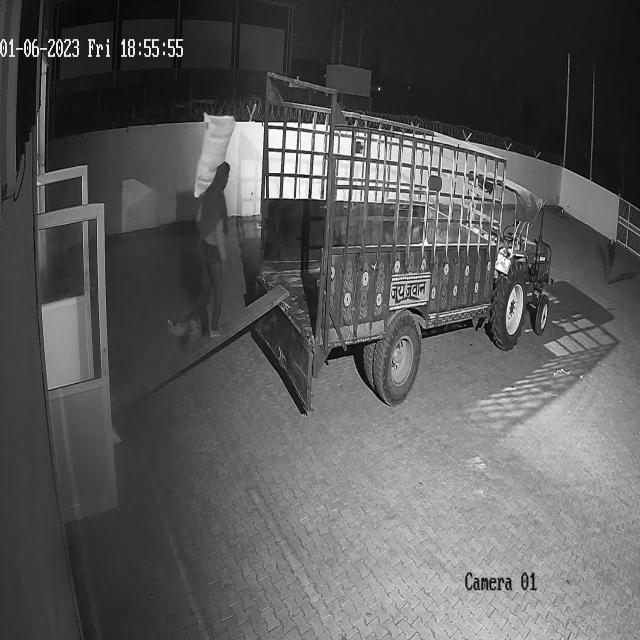sack: (193, 113, 235, 199)
